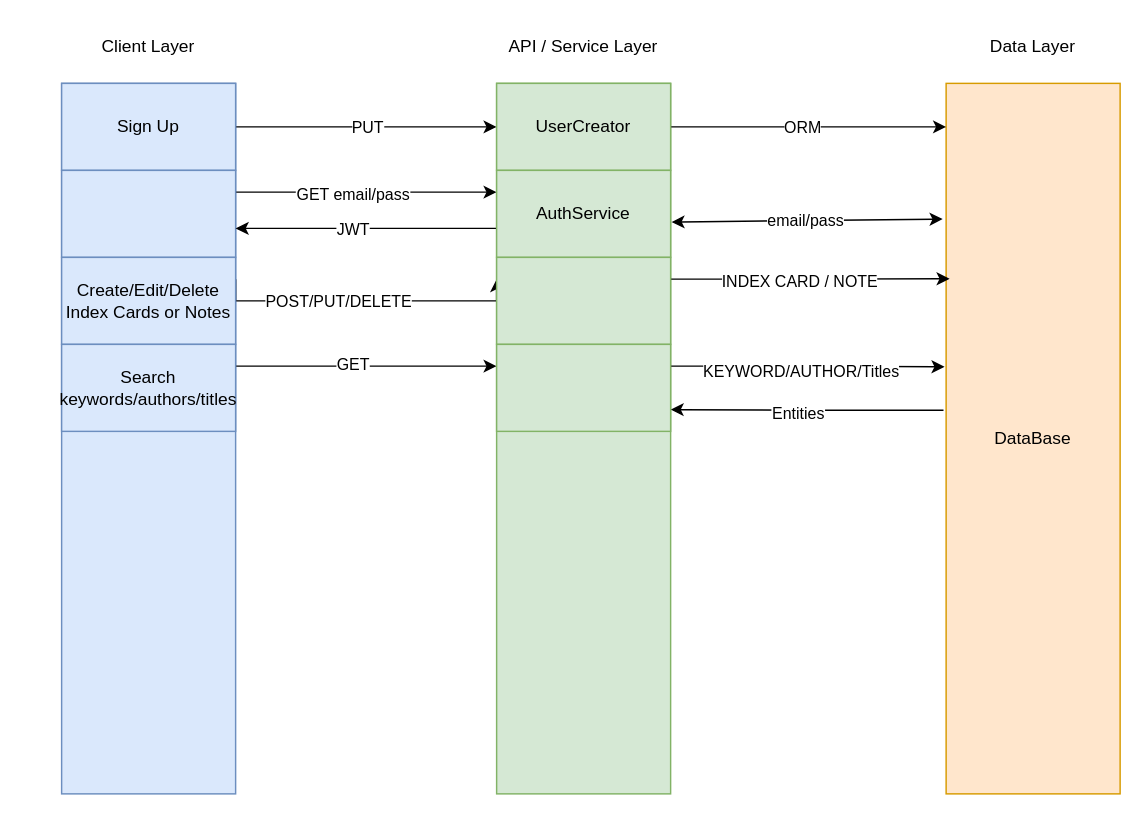
Image size: 1146x819. Some labels were removed from this diagram. Here are the shapes that lost their labels. From the top down, the centre of each, then its label:
At [148,213]: "Login".
At [583,300]: "IndexCardService / NoteService".
At [583,387]: "SearchService".
